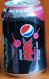pepsi: (3, 1, 46, 76)
